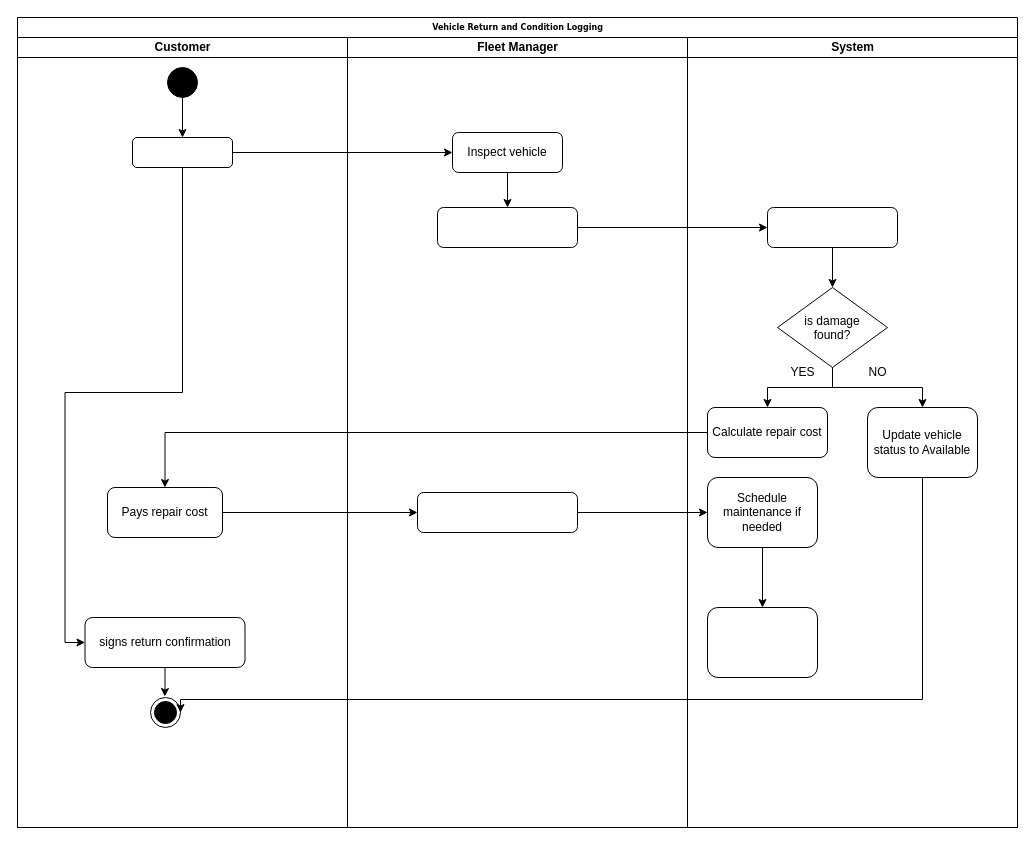
Some shapes in this 1035 by 845 pixel diagram are drawn without their labels. The shapes that lost their labels are listed below. From the top down, each one's centre as x and y in pixels, then its label:
point (182, 152): Return vehicle
point (507, 227): Update condition details
point (832, 227): Log condition details
point (497, 512): Collect the repair cost
point (762, 642): Update vehicle status to 'Under Maintenance'
